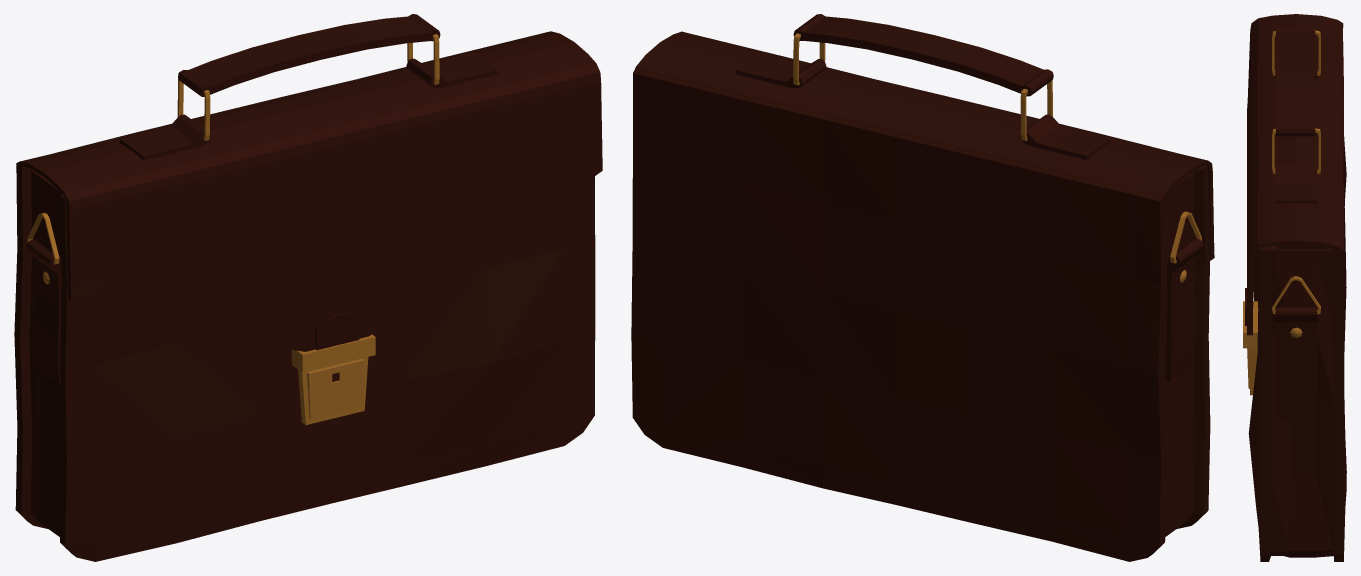
File: breif case.obj
The picture shows the model from 3 angles, left to right: view 1: azimuth 30°, elevation 25°; view 2: azimuth 150°, elevation 25°; view 3: azimuth 270°, elevation 25°; orthographic projection. The views are drawn at different scales.
Size of the model in its own units: 5.16 by 4.05 by 0.9779.
